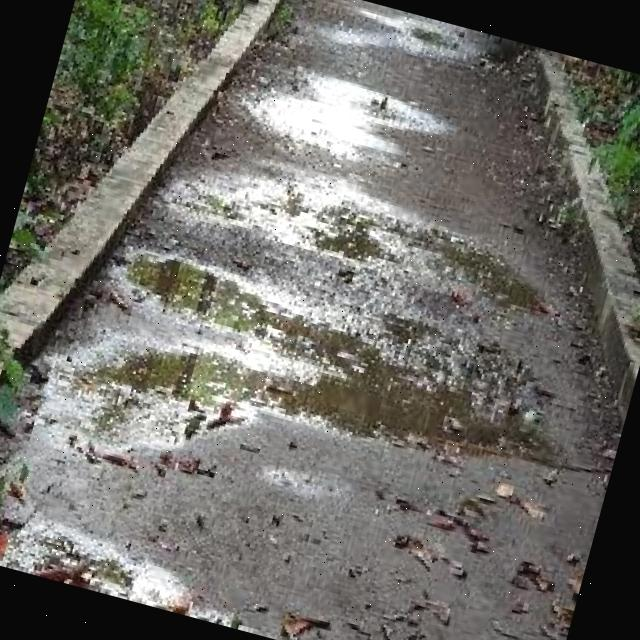waterlogging: (74, 243, 552, 517), (184, 146, 512, 312)
